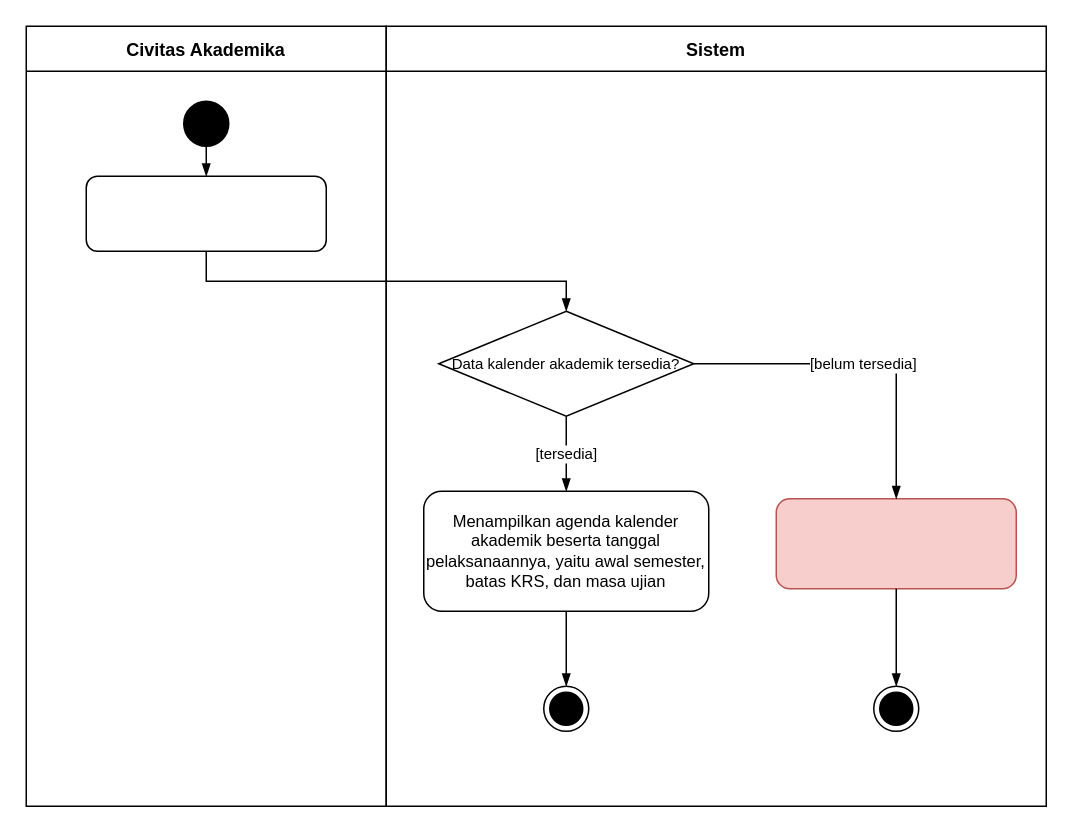
The diagram is 1073 pixels wide and 833 high, and some of its shapes have lost their labels. Each missing label, with the centre of its shape:
Membuka fungsi Lihat Kalender Akademik: (x=205, y=213)
Menampilkan pesan data kalender akademik belum tersedia: (x=895, y=543)
